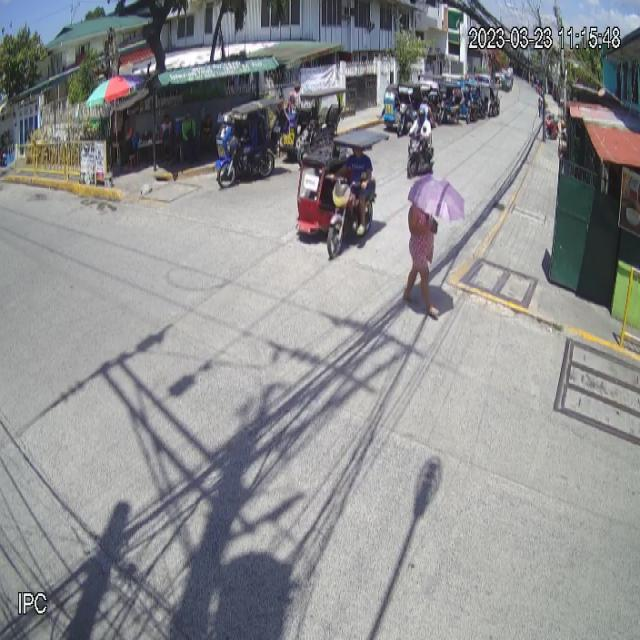Tricycle: (294, 126, 390, 260)
